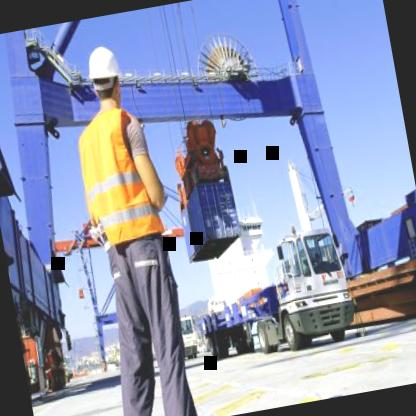helmet: (80, 36, 128, 112)
